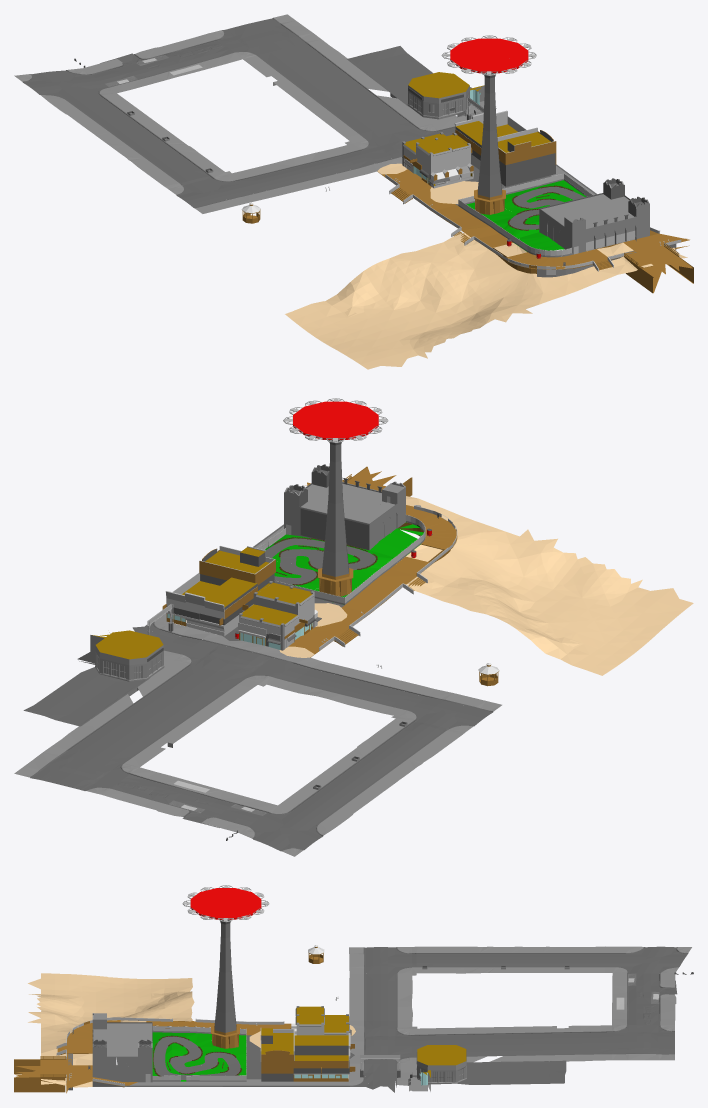
The model's file is brook_s_6.FBX.
3 views of the same model, one above another, from view 1: azimuth 30°, elevation 25°; view 2: azimuth 150°, elevation 25°; view 3: azimuth 270°, elevation 25° (orthographic). The views are drawn at different scales.
Visible parts, largest first — view 1: unnamed, null; view 2: unnamed, null; view 3: unnamed, null.
Part boxes in pixels (x1,y1,x2,y2): unnamed: (14, 14, 693, 369); null: (441, 35, 536, 175); unnamed: (14, 398, 693, 856); null: (283, 400, 388, 552); unnamed: (14, 888, 693, 1093); null: (193, 885, 269, 1013).
Bounding box in the file's own units: 135 × 73.74 × 260.
